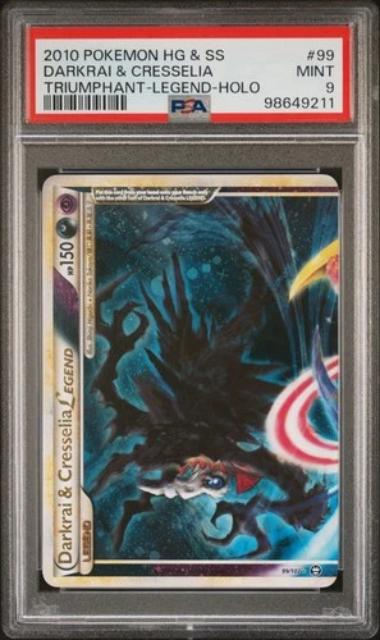Card: (37, 169, 344, 593)
Name: (54, 336, 80, 569)
